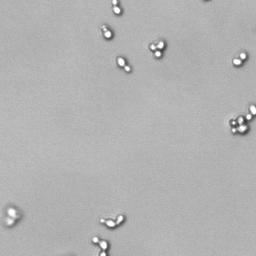budding: (99, 213, 126, 229), (90, 234, 109, 256), (148, 40, 166, 58), (116, 55, 132, 73), (231, 51, 248, 67), (100, 23, 114, 41), (111, 1, 123, 15)
cluster: (228, 102, 256, 138)
